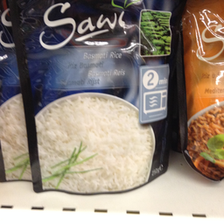rice: (9, 1, 177, 196)
